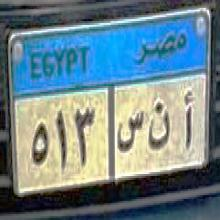1: (56, 111, 68, 167)
3: (74, 103, 99, 171)
5: (29, 121, 50, 167)
alif: (180, 84, 196, 152)
noon: (147, 95, 172, 151)
seen: (116, 110, 144, 156)
